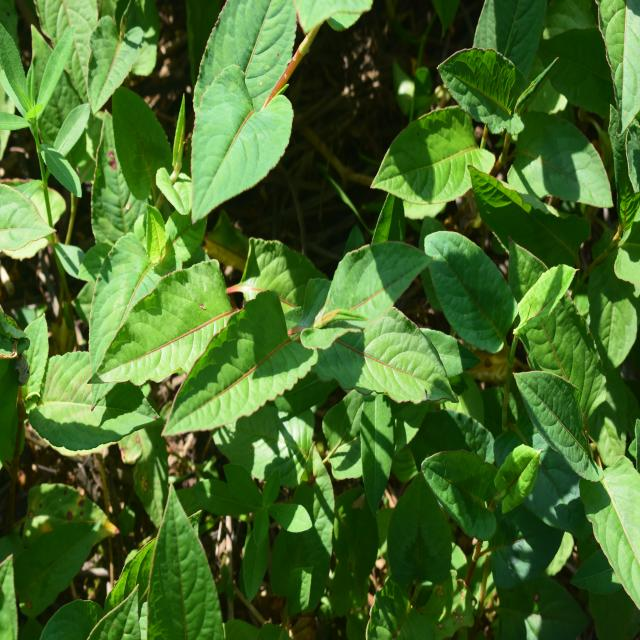Chinese_knotweed: (121, 220, 443, 437)
